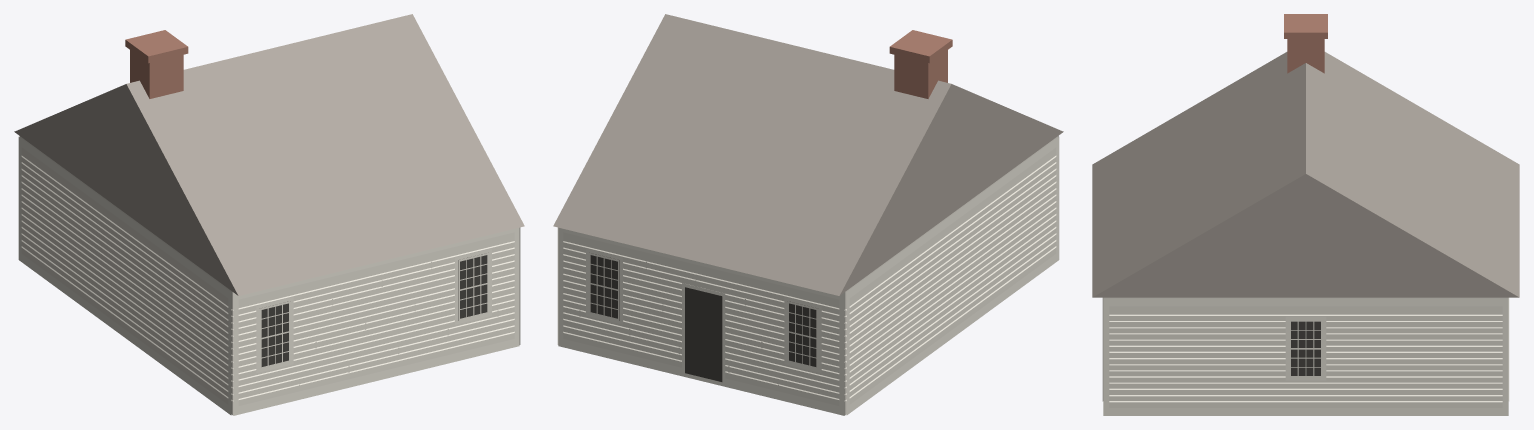
Rendered from recon_1835_blk_school_section_tier_94_d5_07__inferred_1835.glb.
3 views of the same model, side by side, from view 1: azimuth 30°, elevation 25°; view 2: azimuth 150°, elevation 25°; view 3: azimuth 270°, elevation 25° (orthographic). The views are drawn at different scales.
Parts seen in each view (by area): view 1: recon_1835_blk_school_section_tier_94_d5_07__inferred_1835; view 2: recon_1835_blk_school_section_tier_94_d5_07__inferred_1835; view 3: recon_1835_blk_school_section_tier_94_d5_07__inferred_1835.
Part boxes in pixels (<box>): recon_1835_blk_school_section_tier_94_d5_07__inferred_1835: <box>14,14,524,415</box>; recon_1835_blk_school_section_tier_94_d5_07__inferred_1835: <box>553,14,1063,415</box>; recon_1835_blk_school_section_tier_94_d5_07__inferred_1835: <box>1092,14,1519,415</box>.
Bounding box in the file's own units: 7.12 × 6.74 × 9.56.
